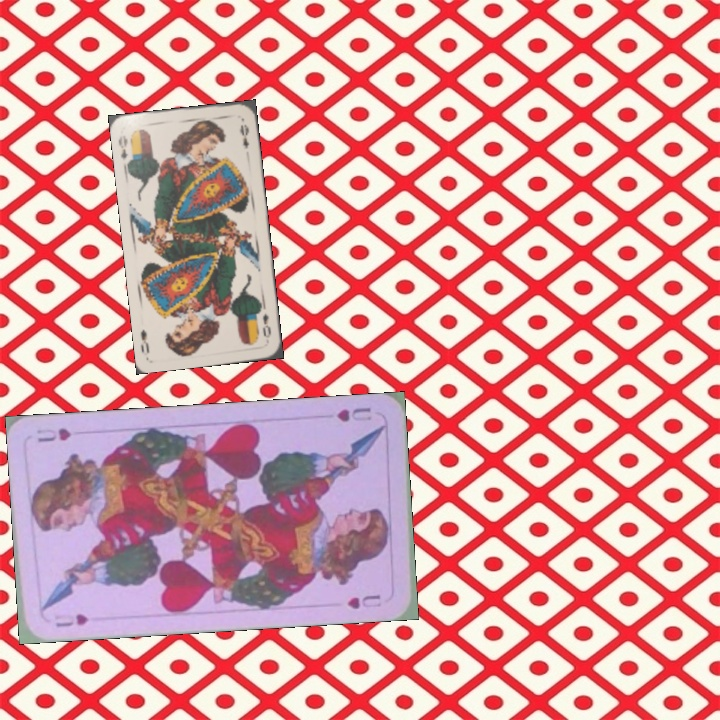EO: (114, 131, 136, 169), (258, 309, 274, 340)
HU: (332, 403, 374, 424), (52, 610, 91, 629)
